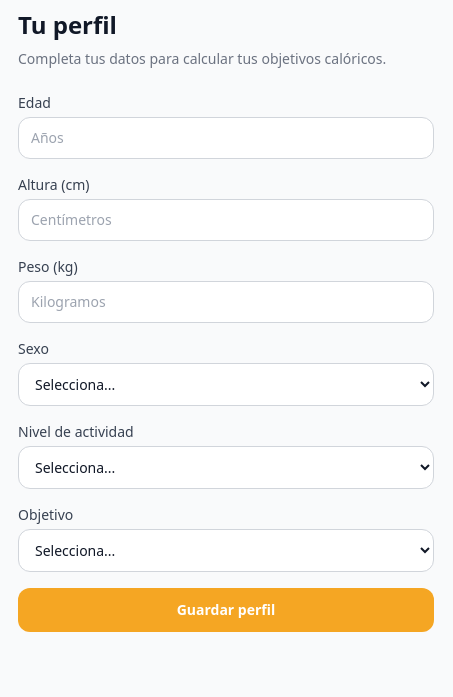
OnboardingRoute › shows Spanish required messages, not raw Zod text, when submitted empty
Click the button "Guardar perfil": coordinates (226, 610) x1=18 y1=588 x2=434 y2=632
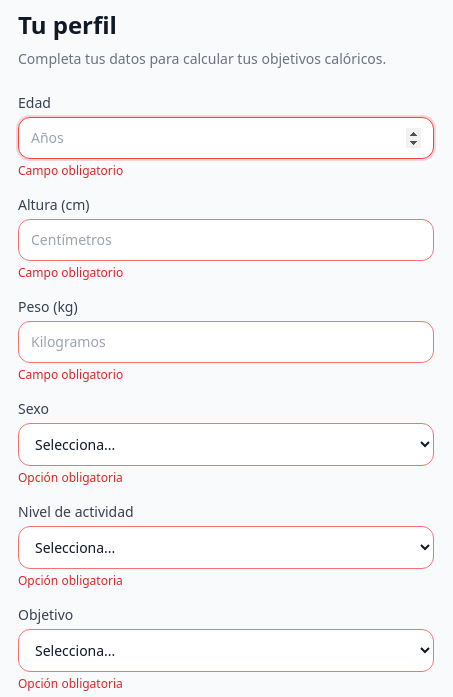
Expected: the text "Campo obligatorio" is shown 3 times, x1=18 y1=162 x2=123 y2=179; x1=18 y1=264 x2=123 y2=281; x1=18 y1=366 x2=123 y2=383
Expected: the text "Opción obligatoria" is shown 3 times, x1=18 y1=469 x2=123 y2=486; x1=18 y1=572 x2=123 y2=589; x1=18 y1=675 x2=123 y2=692
